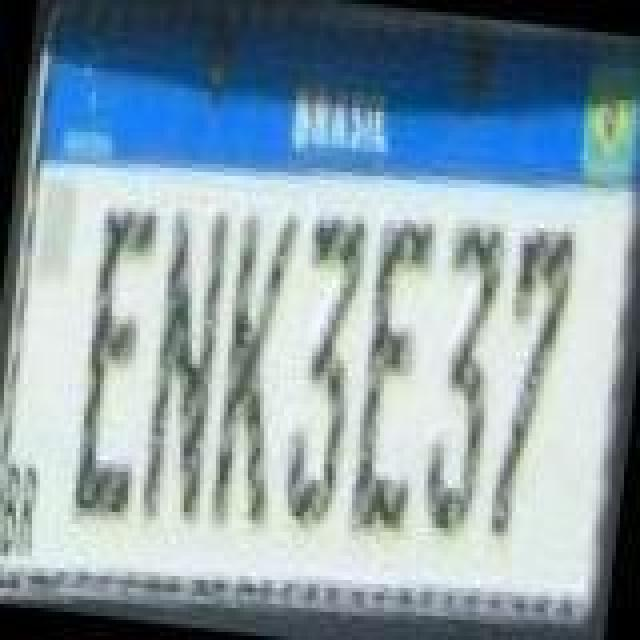3: (272, 206, 368, 538), (416, 214, 512, 538)
7: (480, 216, 576, 544)
E: (340, 208, 444, 544), (66, 198, 166, 522)
K: (204, 196, 308, 532)
N: (132, 202, 236, 534)
